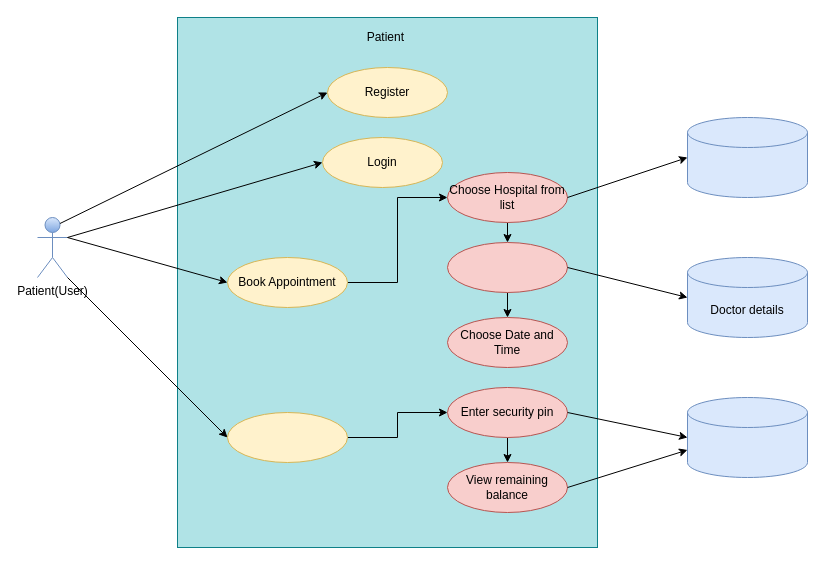
This 825x565 diagram has some shape labels left out. The shapes that lost their labels are listed below. From the top down, each one's box as (x1, y1, x2, y2) in pixels, then its label:
(686, 116, 808, 198): Hospital details
(446, 242, 568, 292): Choose Doctor from list
(226, 412, 348, 462): Make payment
(686, 396, 808, 478): User details
